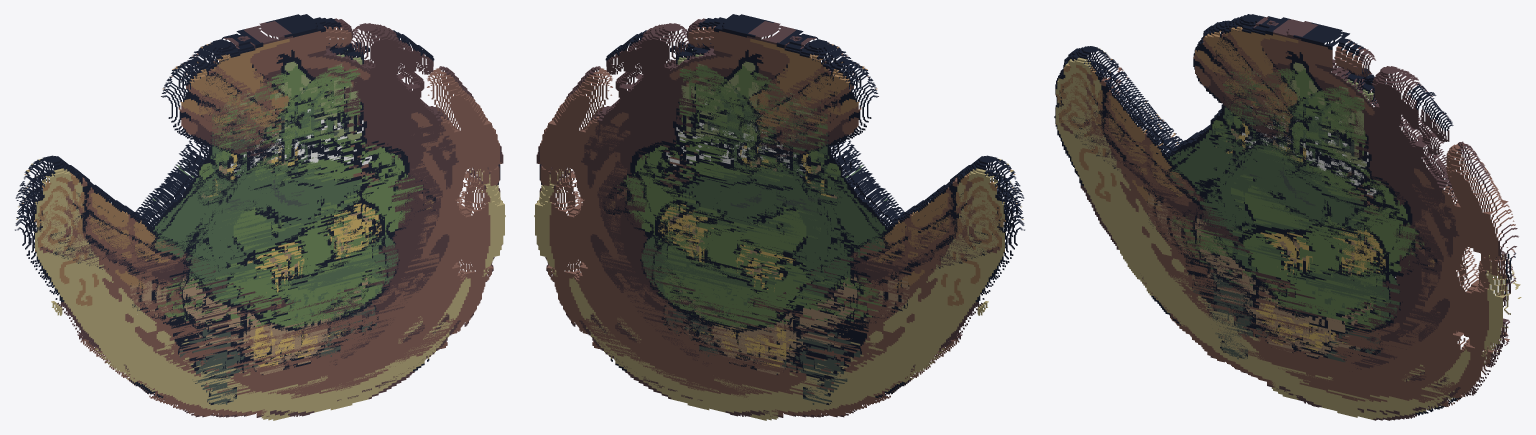
File: troll_golpe.glb
3 views of the same model, side by side, from view 1: azimuth 30°, elevation 25°; view 2: azimuth 150°, elevation 25°; view 3: azimuth 330°, elevation 25° (orthographic). The views are drawn at different scales.
Parts seen in each view (by area): view 1: q2, q5, q0, q3, q1, q4; view 2: q2, q5, q0, q3, q1, q4; view 3: q2, q5, q0, q1, q3, q4.
Part boxes in pixels (x1,y1,x2,y2): q2: (15,36,505,420); q5: (44,14,503,417); q0: (161,42,401,364); q3: (15,77,373,404); q1: (183,39,422,376); q4: (16,60,378,393); q2: (534,36,1024,420); q5: (536,14,995,417); q0: (640,42,878,366); q3: (666,77,1024,404); q1: (617,39,857,375); q4: (661,60,1023,392); q2: (1054,20,1521,420); q5: (1140,15,1518,414); q0: (1193,20,1402,362); q1: (1196,14,1424,349); q3: (1055,46,1377,359); q4: (1055,61,1395,356).
Size of the model in its own units: 290 by 225 by 20.
1 material, 1 textured.
